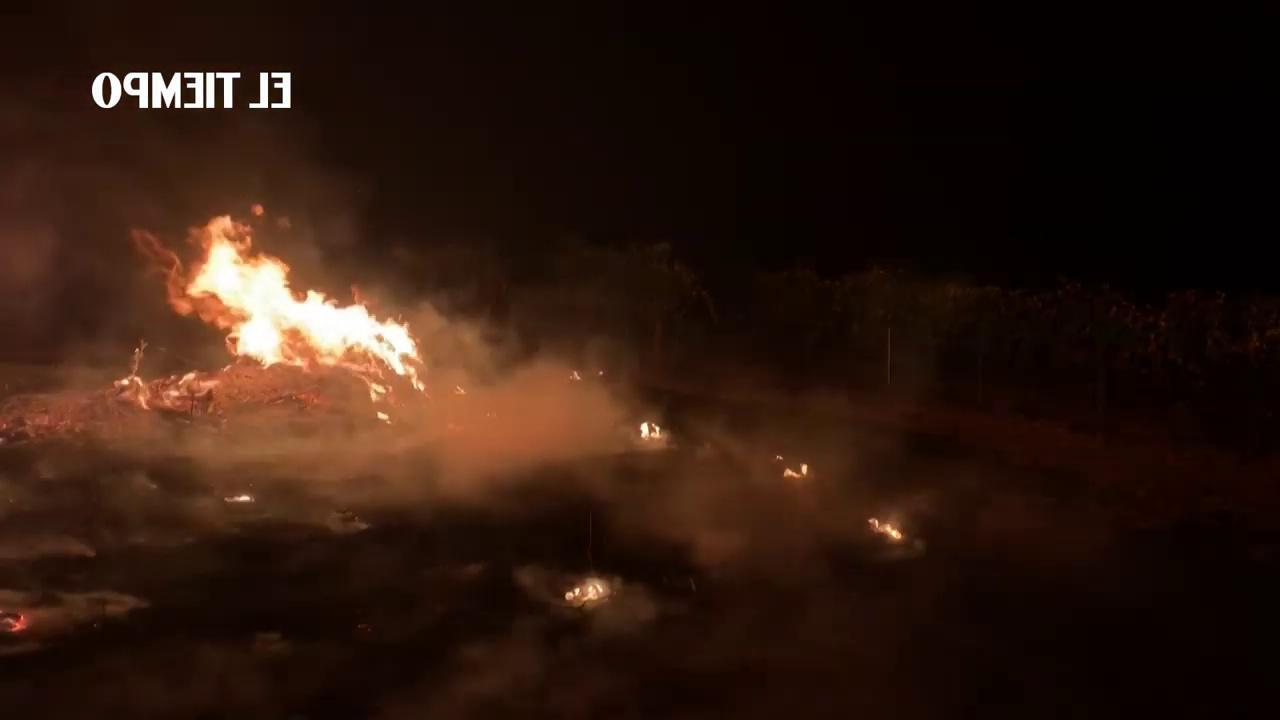Fire: (132, 214, 434, 385), (565, 577, 616, 607), (871, 517, 908, 537), (639, 413, 667, 439), (778, 463, 811, 478)
